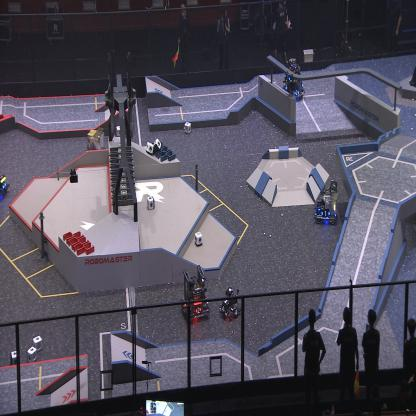car: (180, 263, 211, 321), (280, 56, 306, 102), (84, 127, 110, 173), (314, 179, 338, 224), (218, 284, 242, 320), (0, 167, 10, 201)
